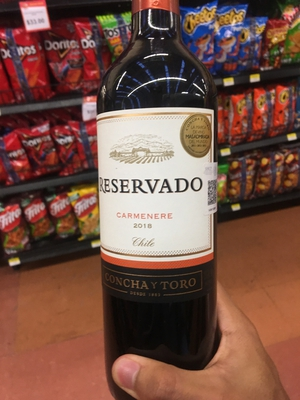reservado carmenere: (94, 3, 221, 400)
